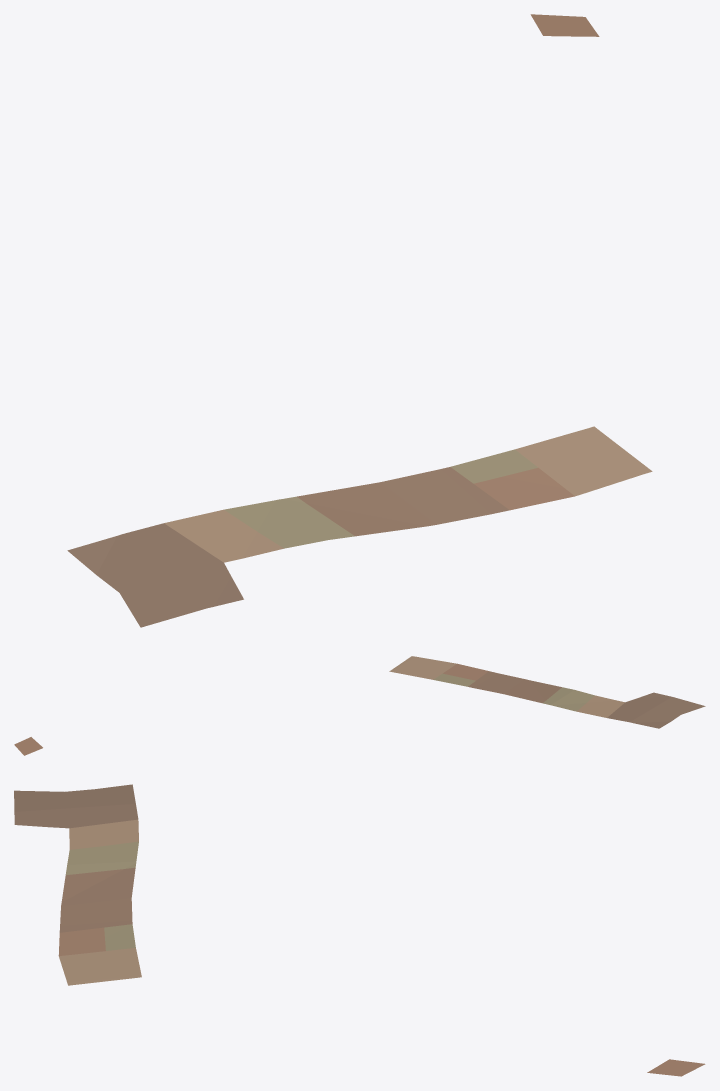
Rendered from farm_-4_1_soil.glb.
The picture shows the model from 3 angles, top to bottom: view 1: azimuth 30°, elevation 25°; view 2: azimuth 150°, elevation 25°; view 3: azimuth 270°, elevation 25°; orthographic projection. The views are drawn at different scales.
Parts seen in each view (by area): view 1: geometry_0; view 2: geometry_0; view 3: geometry_0.
Boxes of the visible parts, x1,y1,x2,y2 form: geometry_0: (67,14,652,627); geometry_0: (14,656,705,755); geometry_0: (14,784,705,1076).
Size of the model in its own units: 463 by 24.32 by 427.
